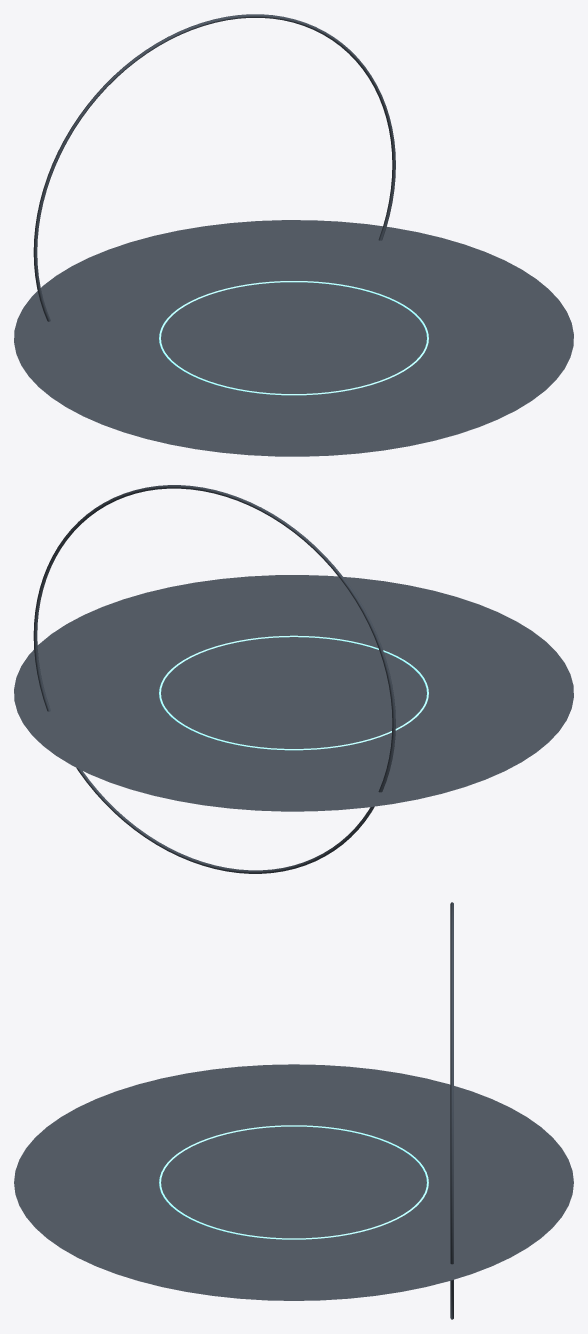
File: environment_low.glb
3 views of the same model, one above another, from view 1: azimuth 30°, elevation 25°; view 2: azimuth 150°, elevation 25°; view 3: azimuth 270°, elevation 25° (orthographic).
Visible parts, largest first — view 1: Floor, DistantRings, FloorRings; view 2: Floor, DistantRings, FloorRings; view 3: Floor, DistantRings, FloorRings.
Part boxes in pixels (x1=…): Floor: x1=14, y1=220, x2=573, y2=456; DistantRings: x1=33, y1=14, x2=395, y2=321; FloorRings: x1=159, y1=281, x2=428, y2=395; Floor: x1=14, y1=575, x2=573, y2=811; DistantRings: x1=33, y1=485, x2=395, y2=873; FloorRings: x1=159, y1=635, x2=428, y2=750; Floor: x1=14, y1=1064, x2=573, y2=1300; DistantRings: x1=450, y1=902, x2=453, y2=1319; FloorRings: x1=159, y1=1125, x2=428, y2=1239.
Bounding box in the file's own units: 9.2 × 6.86 × 9.2.
